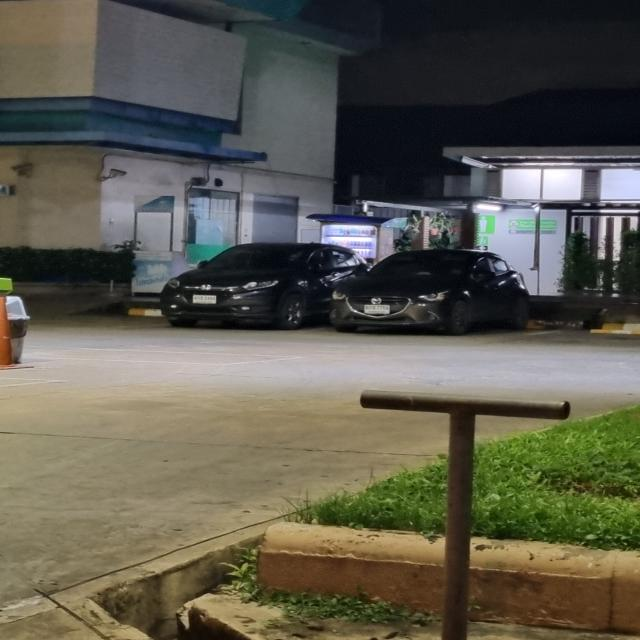license_plate: (360, 303, 394, 318), (189, 293, 220, 307)
